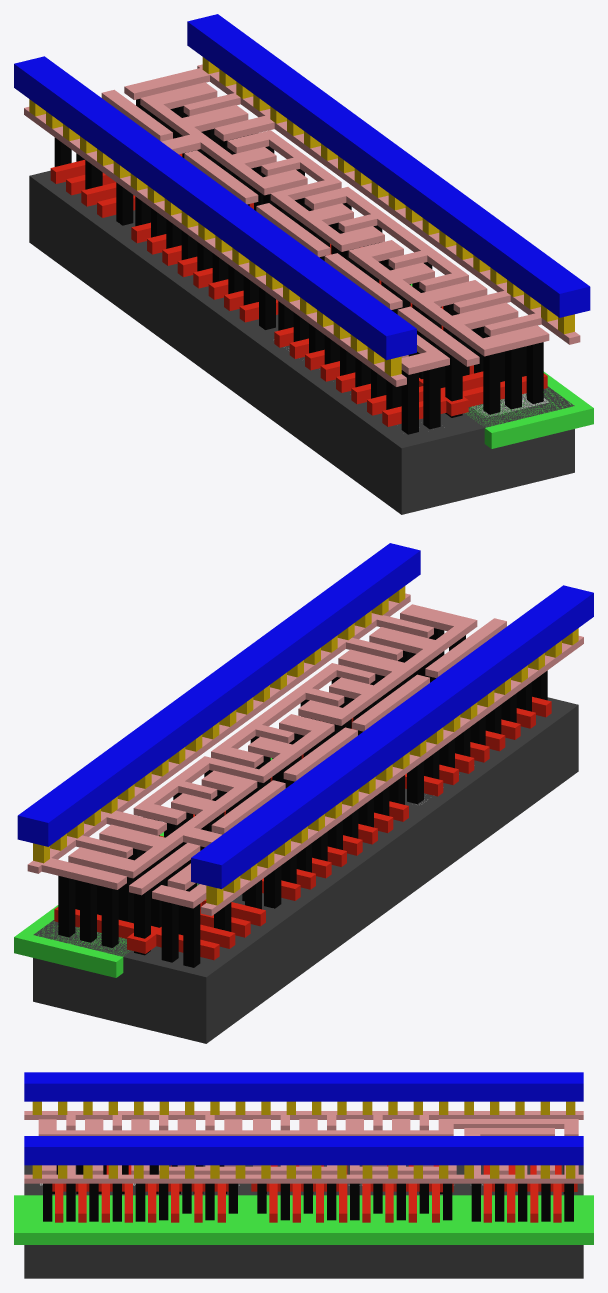
The model's file is sky130_fd_sc_hd__o41ai_4.obj.
The picture shows the model from 3 angles, top to bottom: view 1: azimuth 30°, elevation 25°; view 2: azimuth 150°, elevation 25°; view 3: azimuth 270°, elevation 25°; orthographic projection. The views are drawn at different scales.
Parts seen in each view (by area): view 1: subs, metal1, li, licon, poly, mcon, nwell; view 2: subs, metal1, li, licon, poly, mcon, nwell; view 3: metal1, subs, nwell, li, licon, poly, mcon.
Boxes of the visible parts, x1,y1,x2,y2 form: subs: (29, 170, 574, 514); metal1: (14, 14, 590, 360); li: (24, 64, 580, 386); licon: (54, 99, 543, 434); poly: (50, 153, 547, 426); mcon: (29, 57, 574, 376); nwell: (410, 284, 593, 448); subs: (33, 697, 578, 1043); metal1: (17, 543, 593, 889); li: (27, 593, 583, 915); licon: (58, 628, 547, 967); poly: (54, 696, 551, 960); mcon: (33, 586, 578, 905); nwell: (14, 758, 272, 977); metal1: (24, 1072, 583, 1165); subs: (24, 1165, 583, 1278); nwell: (14, 1195, 593, 1244); li: (24, 1111, 583, 1183); licon: (43, 1165, 573, 1221); poly: (52, 1165, 577, 1222); mcon: (32, 1101, 575, 1178).
Bounding box in the file's own units: 3.2 × 2.74 × 10.5.
